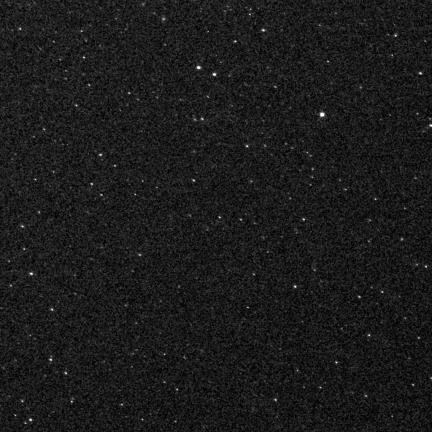blob: (320, 113, 325, 118)
